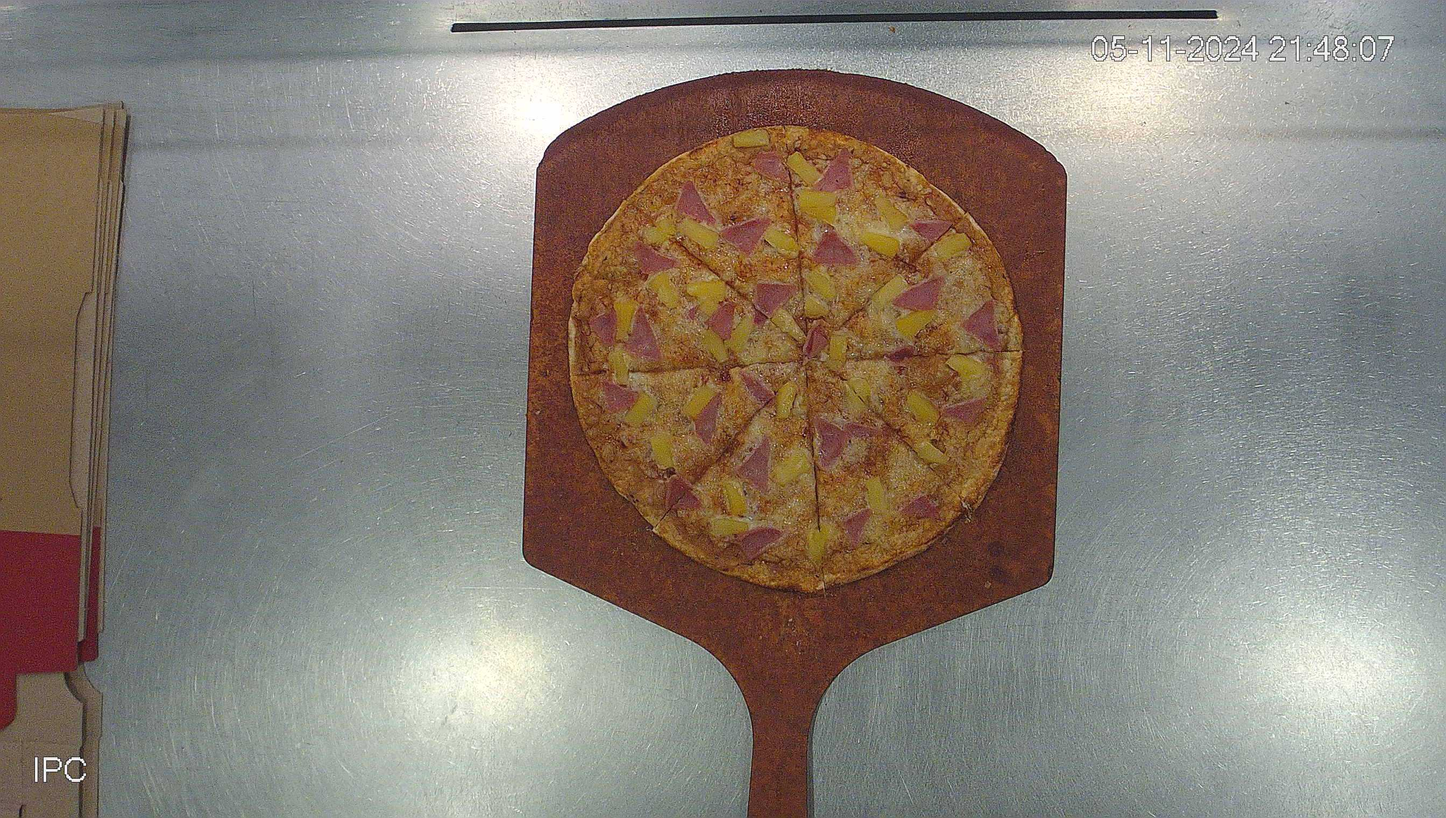manager_choice: (567, 123, 1024, 594)
